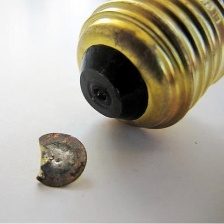light_bulb: (70, 0, 224, 137)
